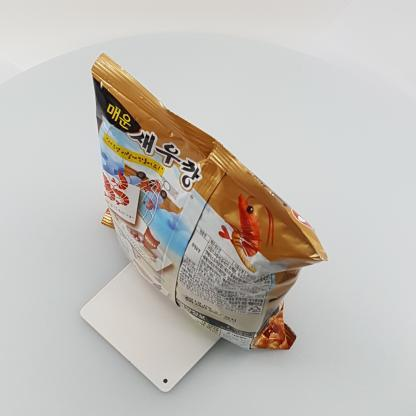Plastic Packaging: (78, 44, 333, 360)
